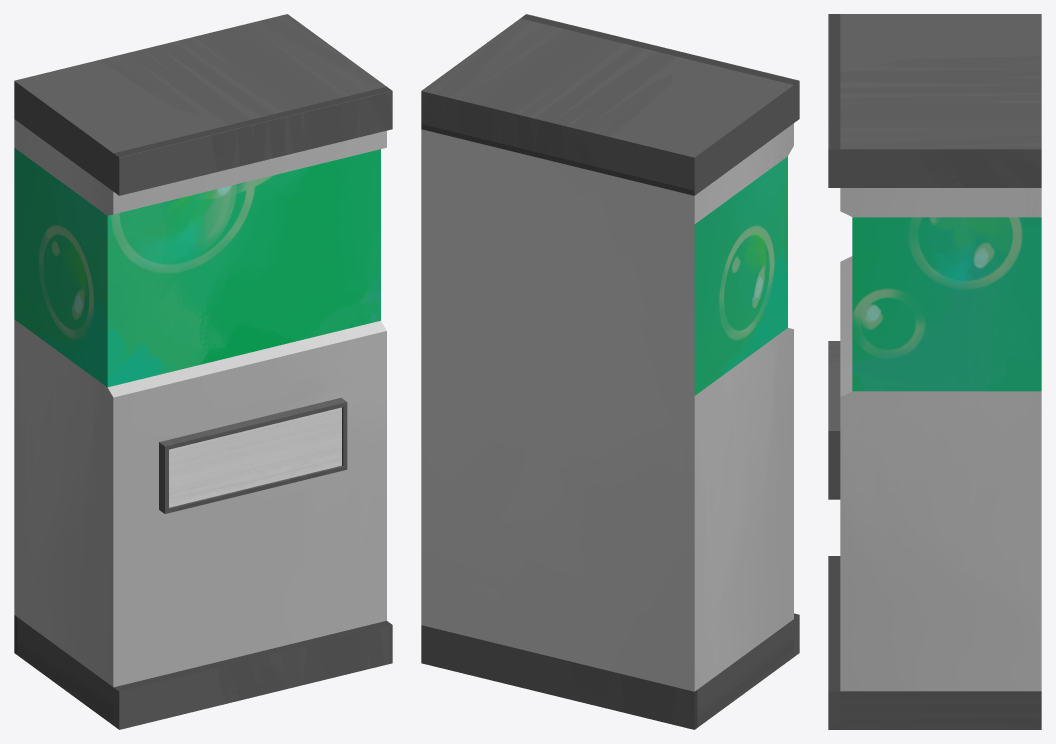
File: Wall_SingleBubble.fbx
3 views of the same model, side by side, from view 1: azimuth 30°, elevation 25°; view 2: azimuth 150°, elevation 25°; view 3: azimuth 270°, elevation 25° (orthographic).
Visible parts, largest first — view 1: Wall_SingleBubble; view 2: Wall_SingleBubble; view 3: Wall_SingleBubble.
Part boxes in pixels (<box>): Wall_SingleBubble: <box>14,14,392,729</box>; Wall_SingleBubble: <box>421,14,799,729</box>; Wall_SingleBubble: <box>828,14,1041,729</box>.
Size of the model in its own units: 150 by 300 by 100.
